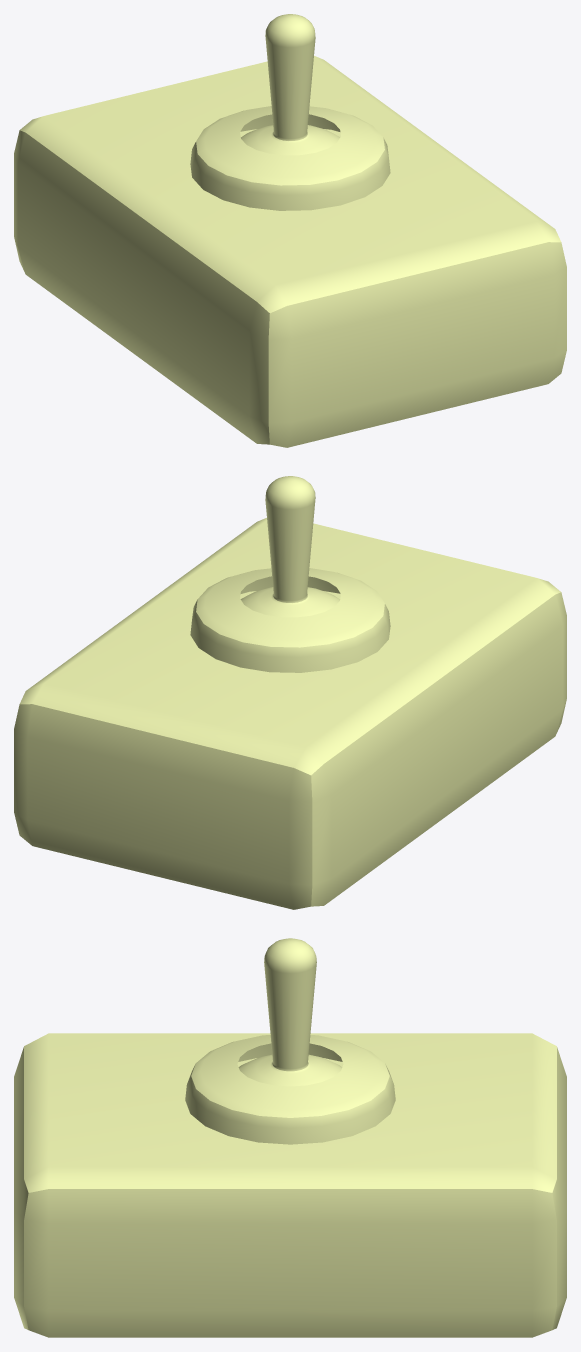
The model's file is Switch.fbx.
The picture shows the model from 3 angles, top to bottom: view 1: azimuth 30°, elevation 25°; view 2: azimuth 150°, elevation 25°; view 3: azimuth 270°, elevation 25°; orthographic projection. The views are drawn at different scales.
Parts seen in each view (by area): view 1: switch_pad, switch_base, switch1; view 2: switch_pad, switch_base, switch1; view 3: switch_pad, switch_base, switch1.
Part boxes in pixels (<box>): switch_pad: <box>14,56,566,447</box>; switch_base: <box>190,106,390,210</box>; switch1: <box>241,14,340,155</box>; switch_pad: <box>14,518,566,909</box>; switch_base: <box>190,568,390,672</box>; switch1: <box>240,476,339,617</box>; switch_pad: <box>14,1033,566,1337</box>; switch_base: <box>185,1035,395,1144</box>; switch1: <box>238,938,342,1086</box>.
Size of the model in its own units: 0.1069 by 0.0996 by 0.156.
